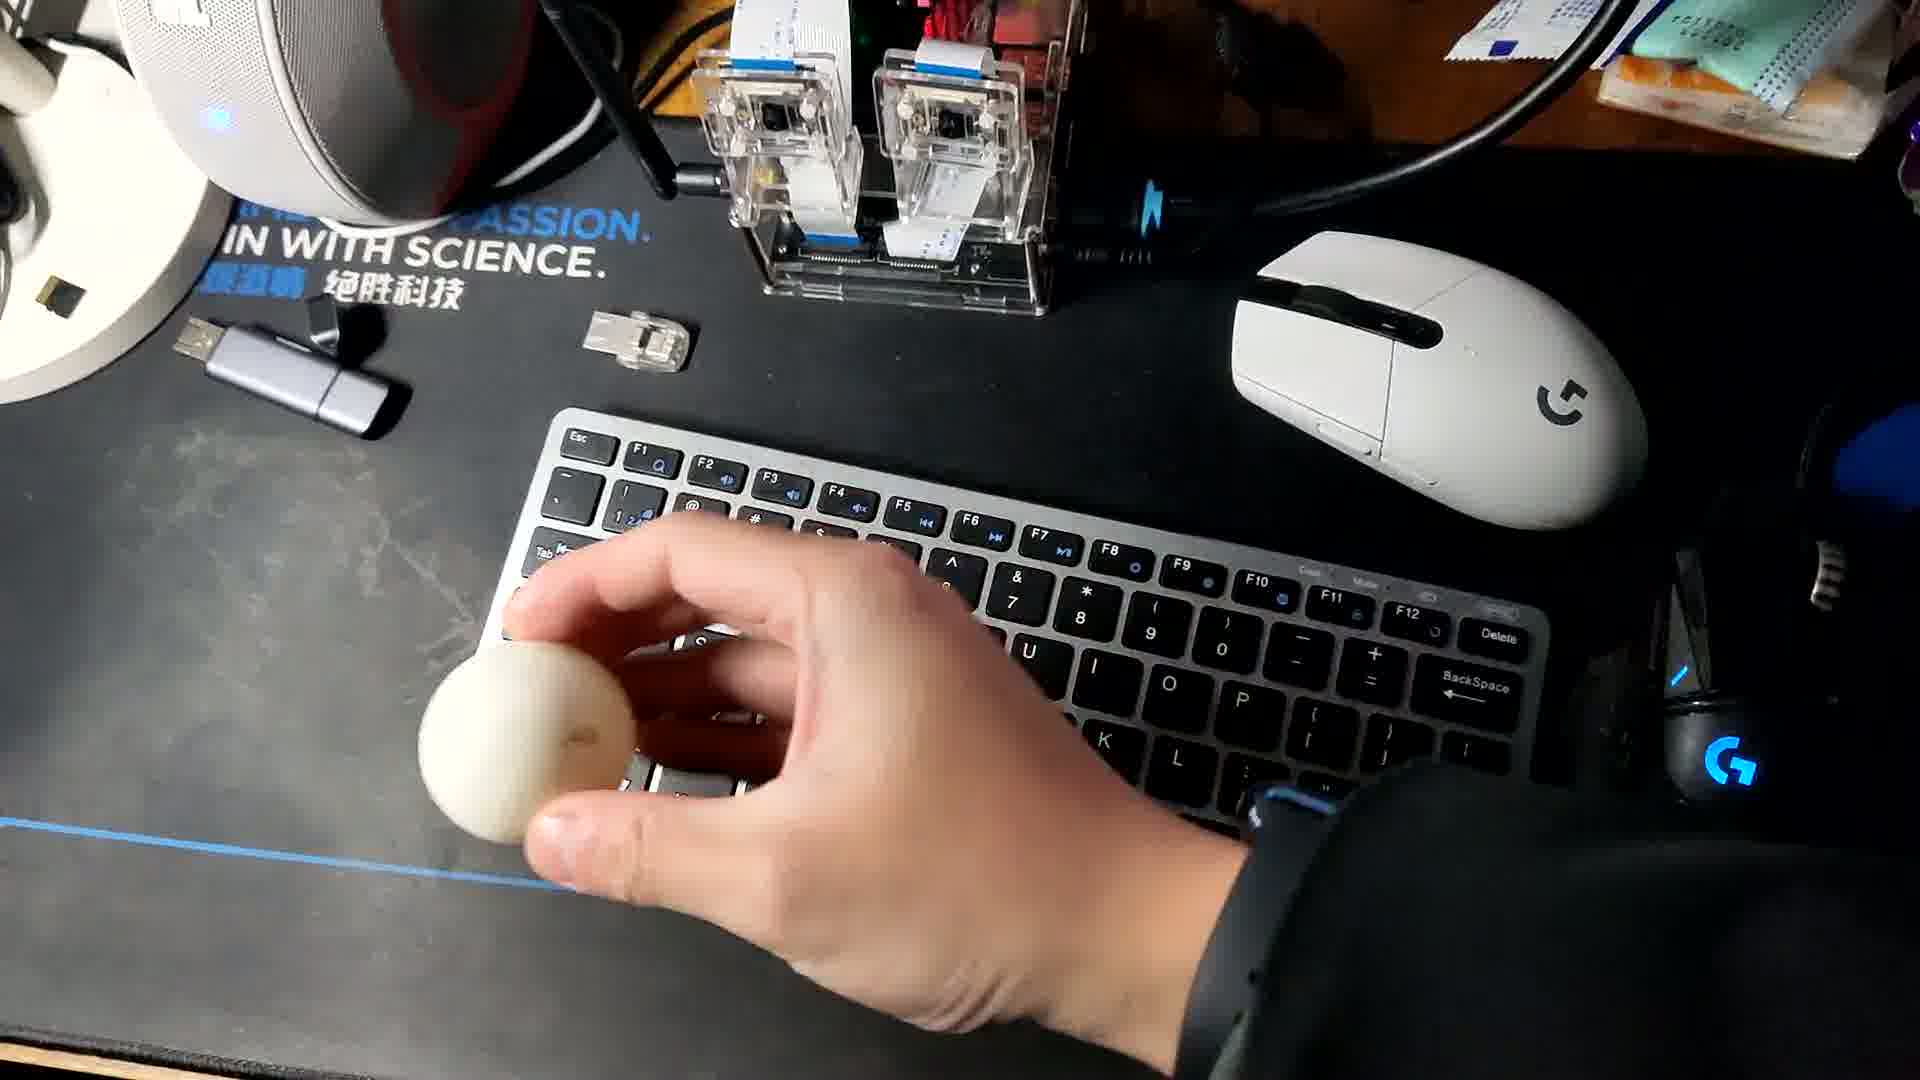Ball: (409, 638, 644, 844)
